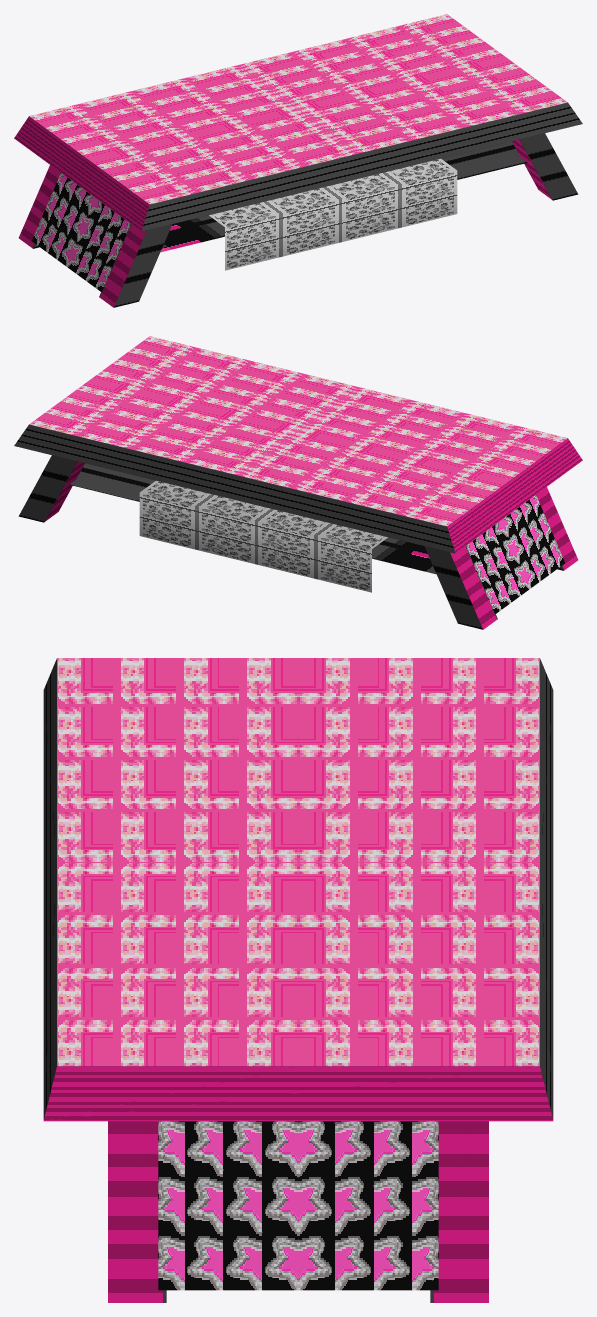
3 renders of one model, top to bottom at view 1: azimuth 30°, elevation 25°; view 2: azimuth 150°, elevation 25°; view 3: azimuth 270°, elevation 25°, orthographic. The views are drawn at different scales.
Visible parts, largest first — view 1: 3678kg_gl_ta1; view 2: 3678kg_gl_ta1; view 3: 3678kg_gl_ta1.
Part boxes in pixels (x1=…): 3678kg_gl_ta1: x1=14, y1=14, x2=582, y2=307; 3678kg_gl_ta1: x1=14, y1=336, x2=582, y2=629; 3678kg_gl_ta1: x1=43, y1=658, x2=553, y2=1302.
Bounding box in the file's own units: 2 × 0.4399 × 0.9502.
Materials: 4 (4 with a texture image).
